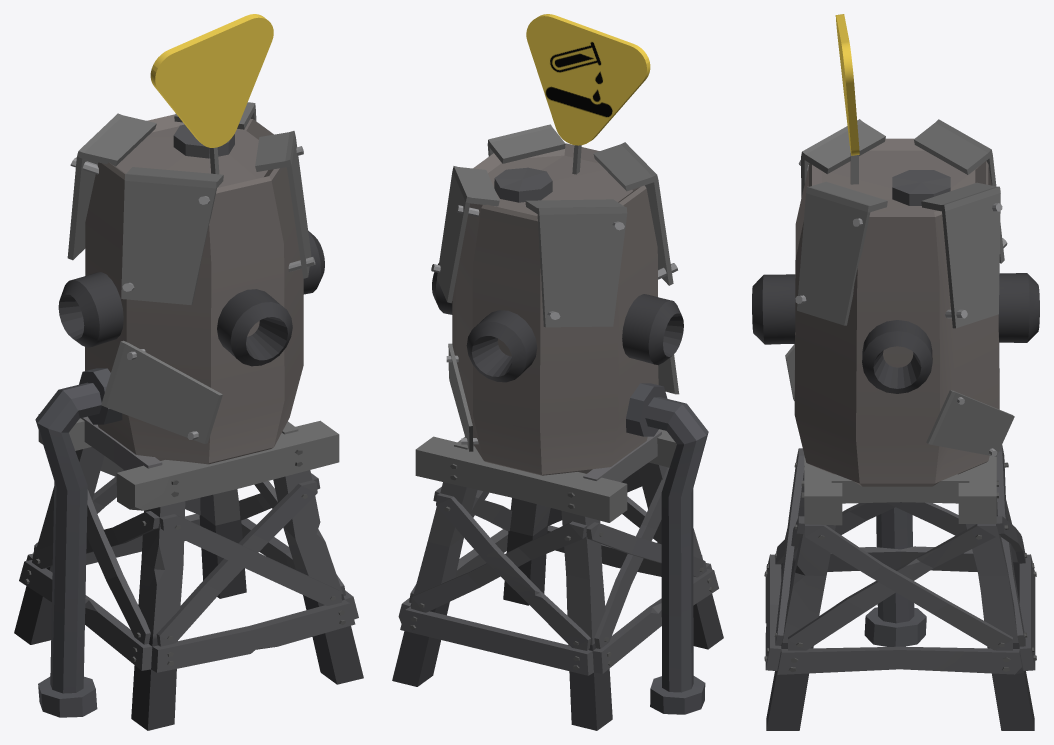
Rendered from Oil_Tankv2.fbx.
3 renders of one model, left to right at view 1: azimuth 30°, elevation 25°; view 2: azimuth 150°, elevation 25°; view 3: azimuth 270°, elevation 25°, orthographic. The views are drawn at different scales.
Visible parts, largest first — view 1: watertank3; view 2: watertank3; view 3: watertank3.
Part boxes in pixels (x1,y1,x2,y2): watertank3: (14,14,363,730); watertank3: (392,14,723,730); watertank3: (752,14,1039,730).
Bounding box in the file's own units: 42.5 × 97.92 × 38.13.
